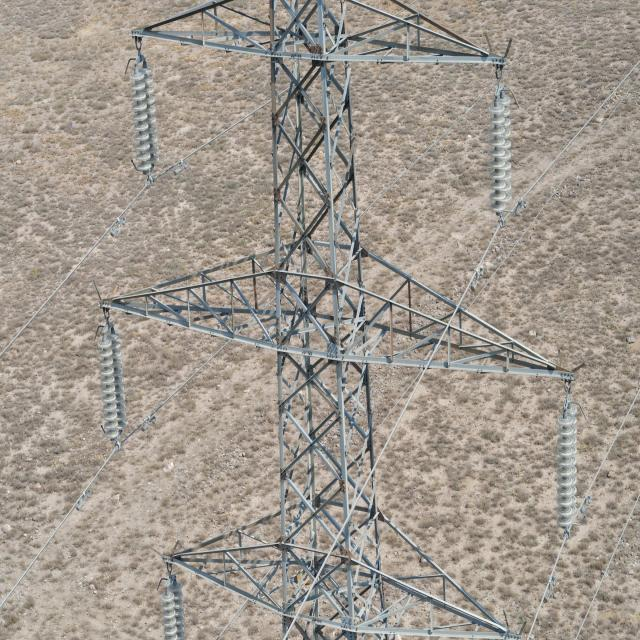direk: (152, 10, 498, 640)
